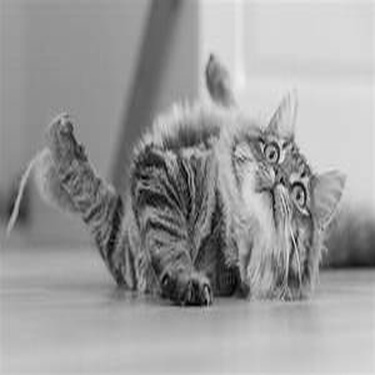cat: (28, 47, 348, 312)
